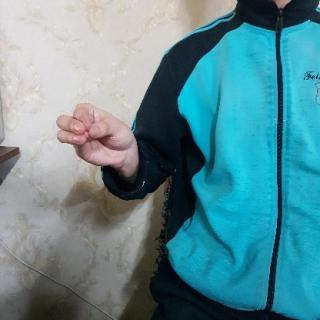HA: (53, 100, 144, 177)
